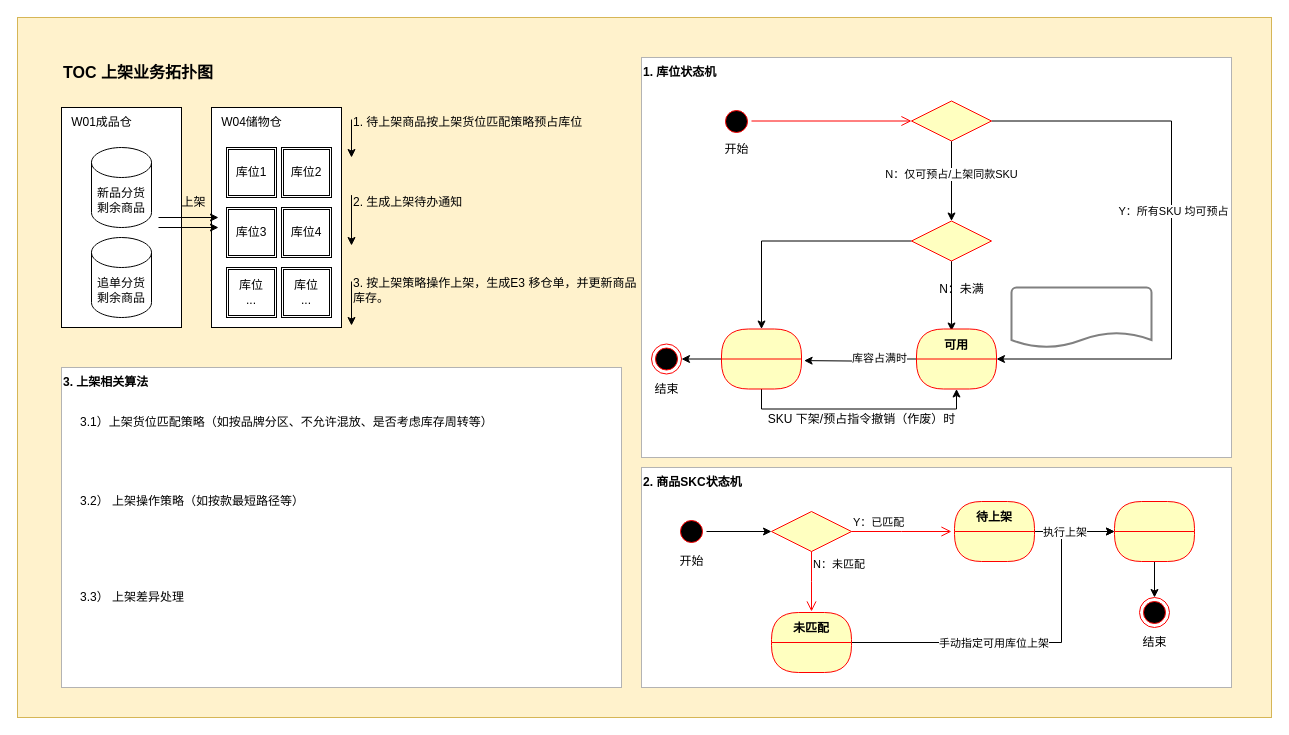
Some shapes in this 1289 by 735 pixel diagram are drawn without their labels. The centre of each missing label's shape, as x and y in pixels:
"不可用" goes at point (761, 358).
"已上架" goes at point (1154, 531).
"已上架+预占< SKU允许库容时，可用" goes at point (1081, 317).
"库位是否为空" goes at point (951, 120).
"库容是否已满" goes at point (951, 240).
"是否匹配到库位" goes at point (811, 531).
